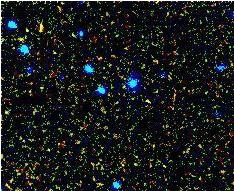star: (27, 14, 57, 44)
